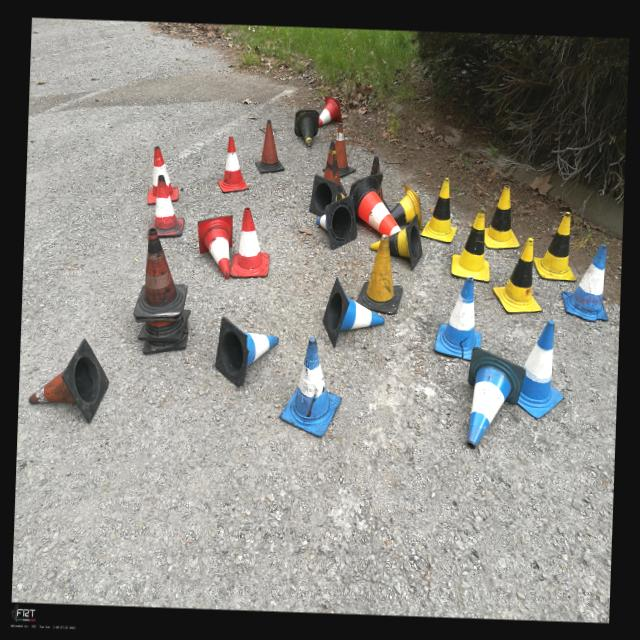blue_cone: (278, 335, 343, 437), (464, 346, 526, 450), (516, 319, 566, 419), (322, 276, 386, 349), (214, 316, 278, 388), (433, 275, 482, 361), (560, 242, 610, 322), (315, 194, 358, 250)
large_orange_cone: (348, 172, 402, 236)
orange_cone: (230, 206, 270, 278), (195, 213, 232, 280), (147, 174, 185, 236), (147, 146, 180, 206), (217, 135, 251, 193), (318, 95, 343, 127)
unknown_cone: (28, 336, 110, 424), (133, 228, 190, 318), (355, 232, 404, 314), (322, 121, 357, 178), (254, 119, 286, 173), (322, 141, 348, 195), (368, 154, 392, 212), (294, 109, 318, 149)
yellow_cone: (491, 236, 544, 313), (532, 210, 578, 280), (369, 212, 424, 270), (451, 208, 492, 282), (420, 176, 458, 242), (483, 184, 521, 249), (389, 182, 424, 230), (309, 174, 346, 216)
